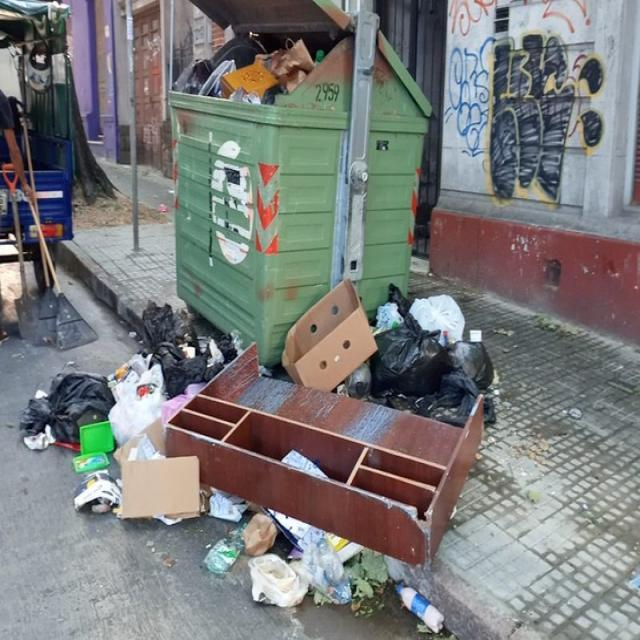garbage: (22, 282, 494, 636), (174, 27, 324, 122)
